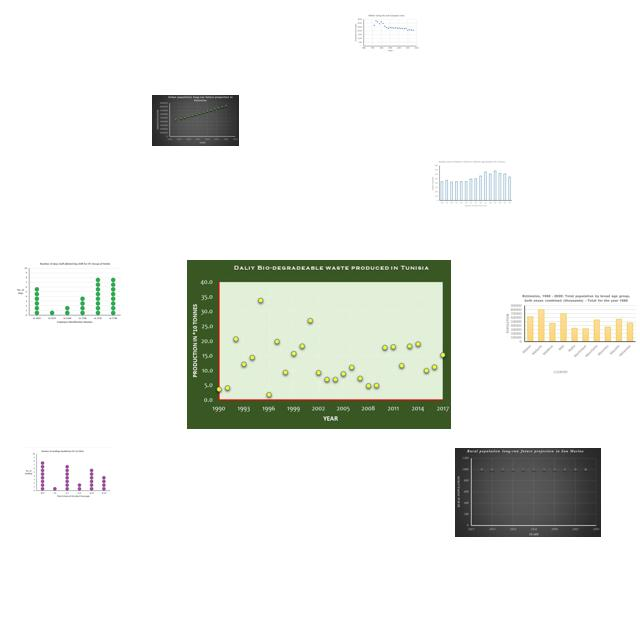Graph: (187, 260, 451, 429), (455, 448, 601, 537), (502, 292, 638, 374), (14, 260, 122, 326), (22, 447, 112, 500), (152, 95, 239, 146), (430, 159, 514, 209), (354, 14, 419, 52)
